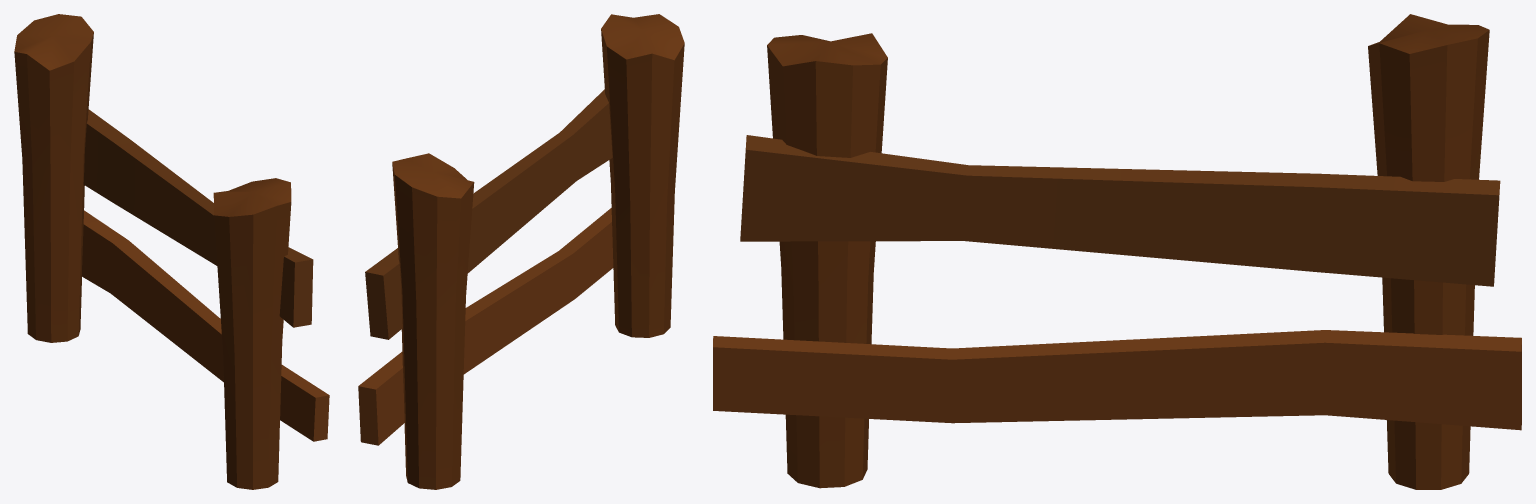
The model's file is fence2.fbx.
3 views of the same model, side by side, from view 1: azimuth 30°, elevation 25°; view 2: azimuth 150°, elevation 25°; view 3: azimuth 270°, elevation 25° (orthographic). The views are drawn at different scales.
Visible parts, largest first — view 1: fence2; view 2: fence2; view 3: fence2.
Boxes of the visible parts, x1,y1,x2,y2 form: fence2: (14,14,329,489); fence2: (358,14,684,489); fence2: (713,14,1521,489).
Bounding box in the file's own units: 0.3057 × 1.12 × 1.81.
